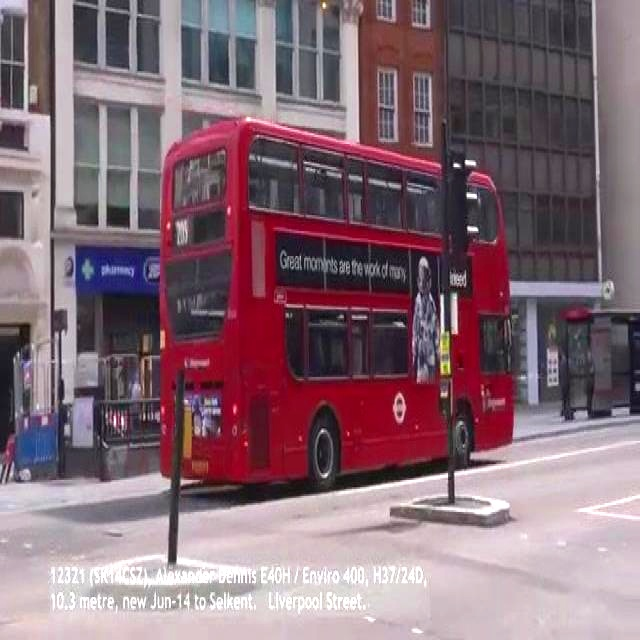bus: (134, 108, 557, 503)
